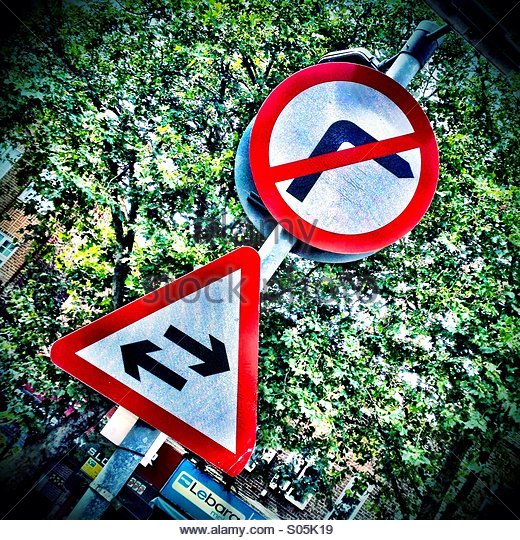No_right_turn: (248, 61, 440, 256)
